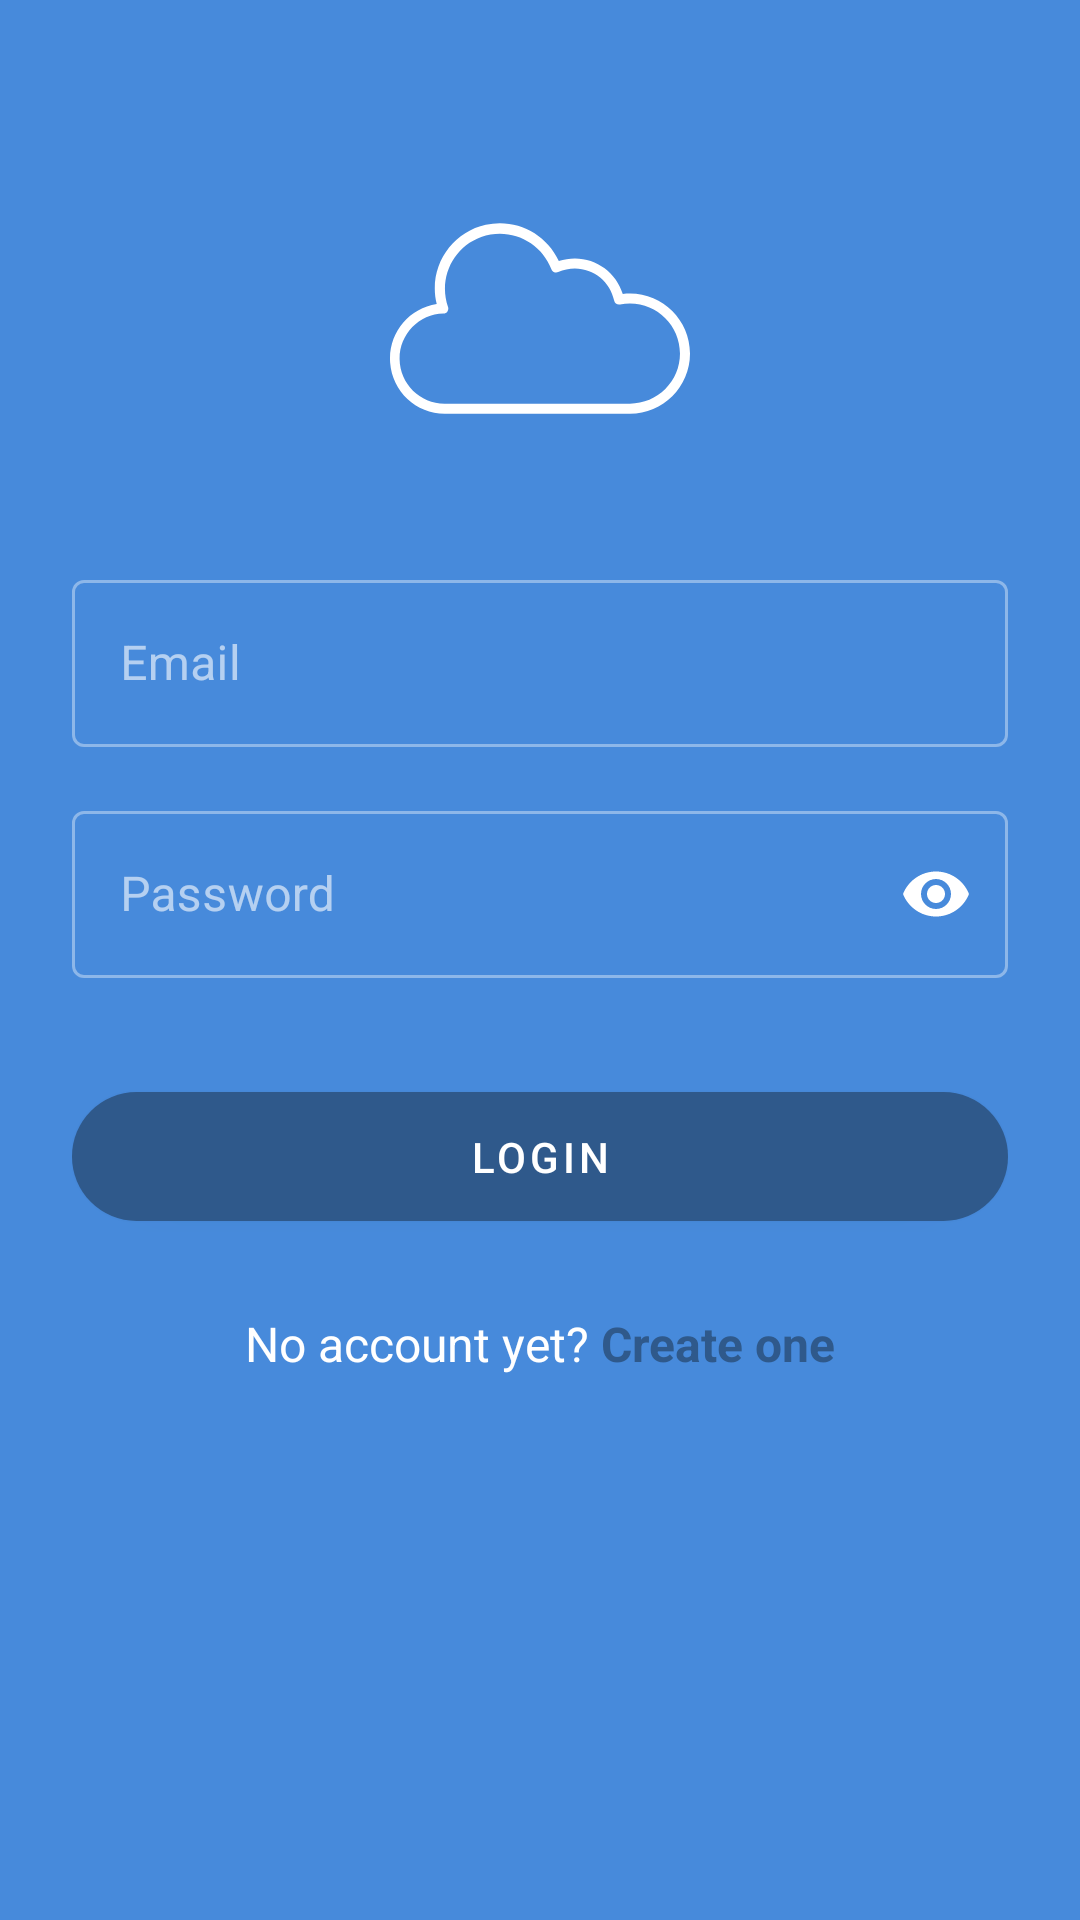

Where to tap for icons on this 1080 x 1920 app screen, as (x=x, y=y):
cloud: (x=540, y=318)
